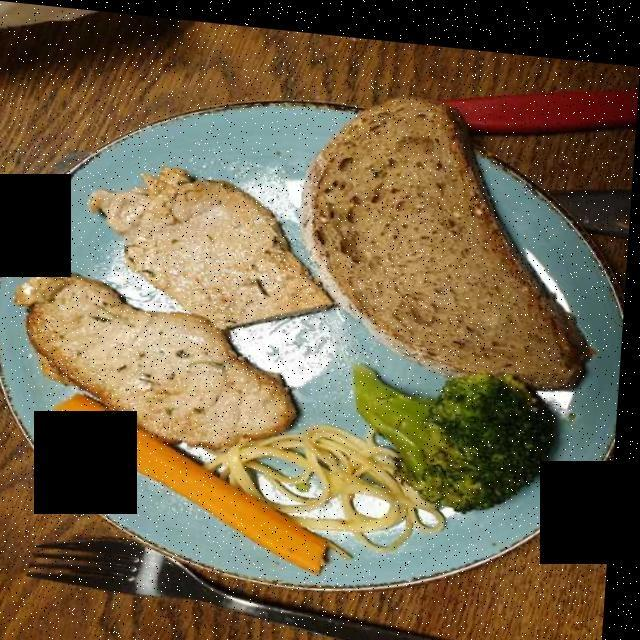bread: (321, 96, 580, 365)
broccoli: (356, 357, 559, 499)
carrot: (61, 392, 337, 556)
pasta: (221, 425, 457, 541)
